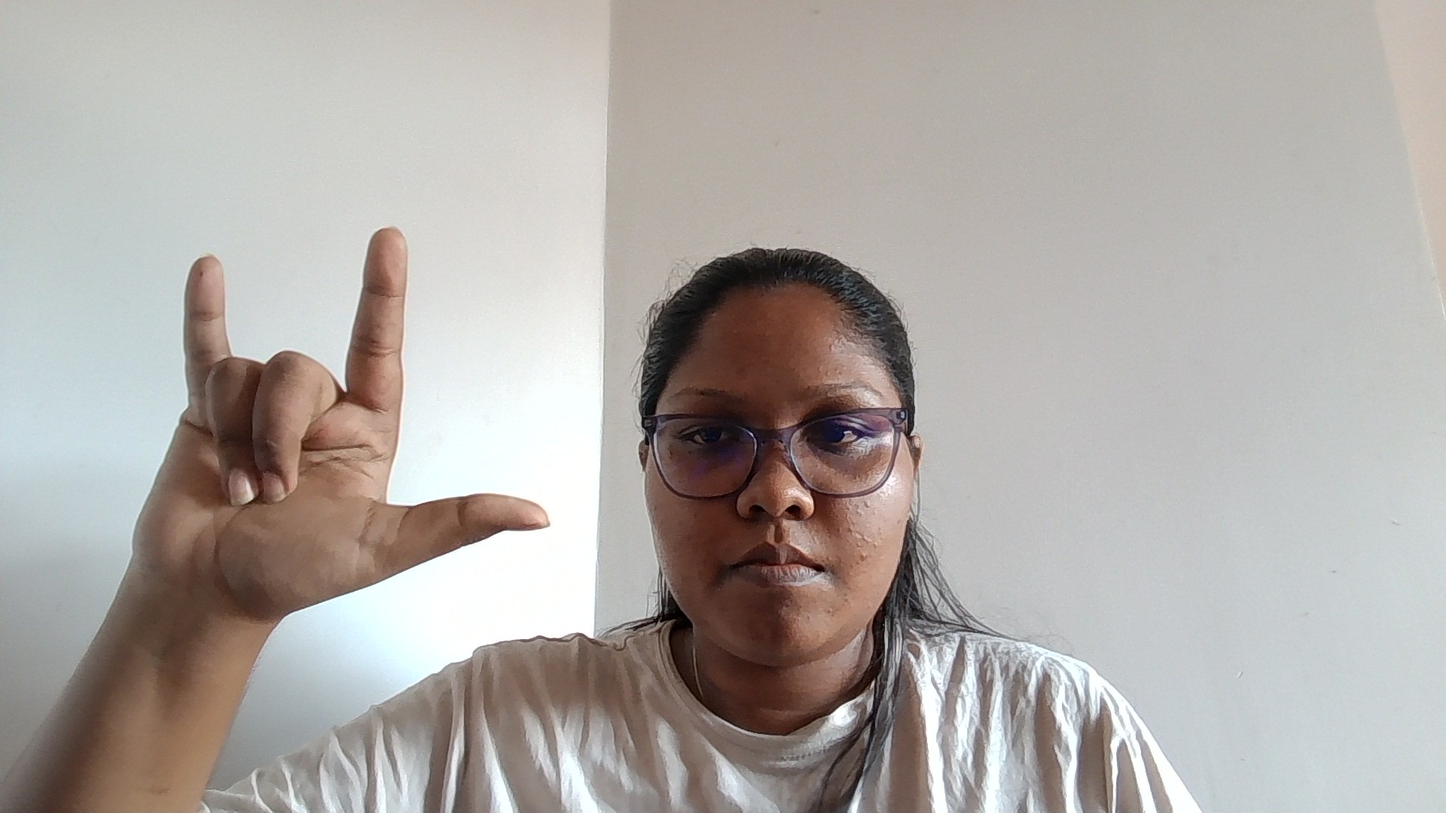I Love You: (107, 162, 527, 689)
